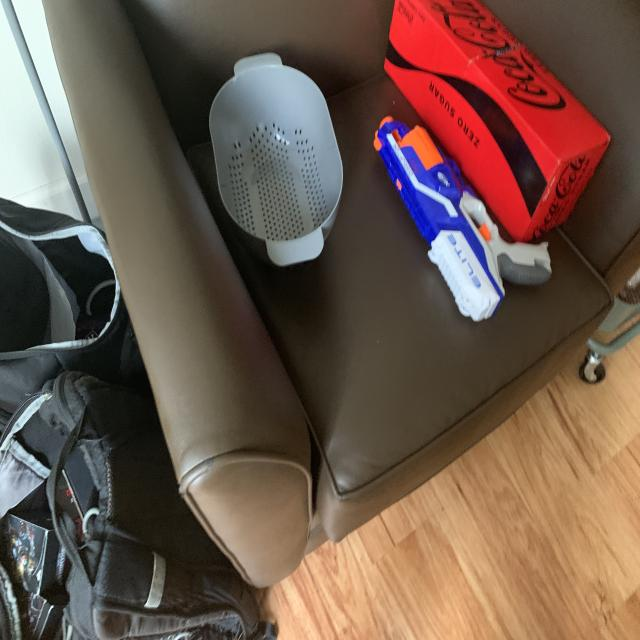nerf-maverik: (369, 100, 564, 328)
